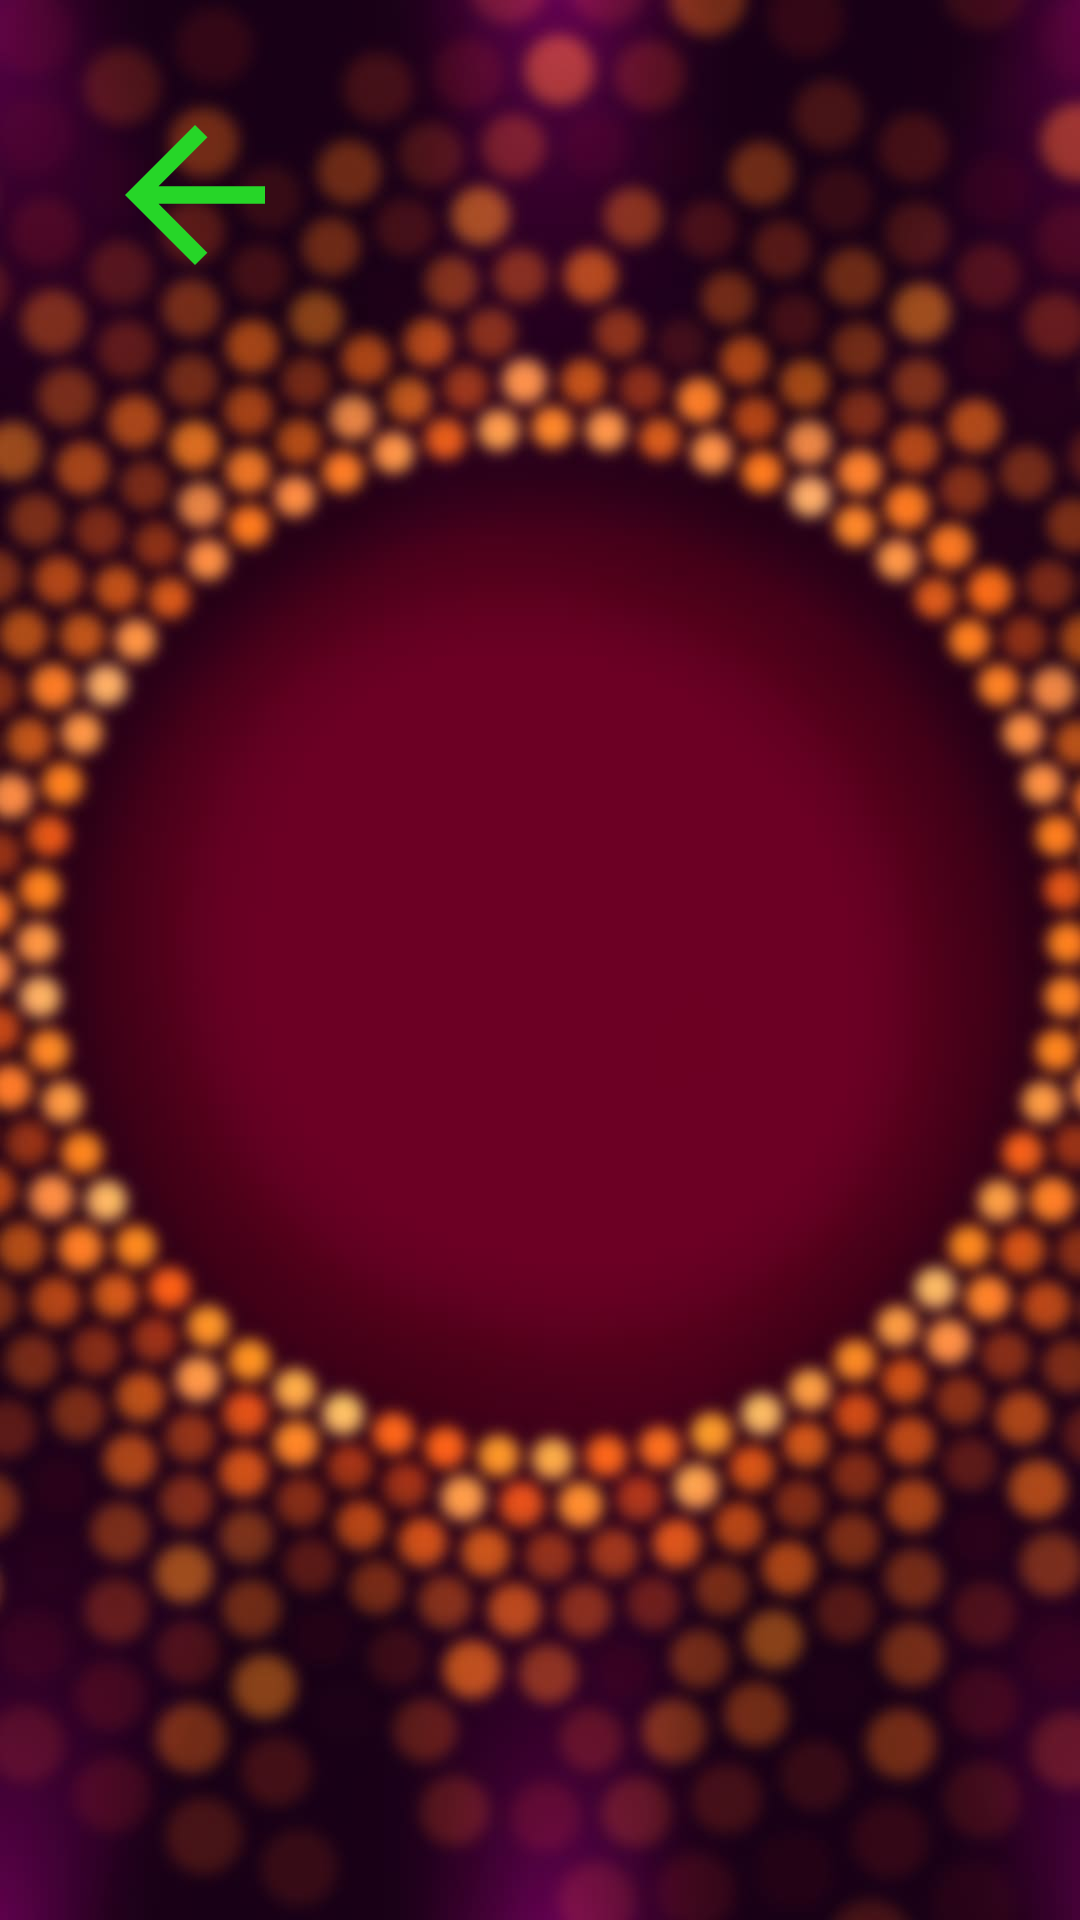

Screen size 1080 × 1920. Icon name, then its center in pixels as [x,y]:
back: [195,195]
